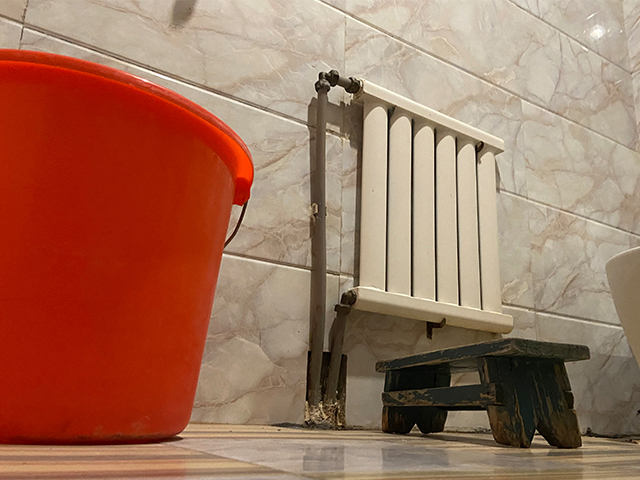stool: (374, 337, 593, 449)
